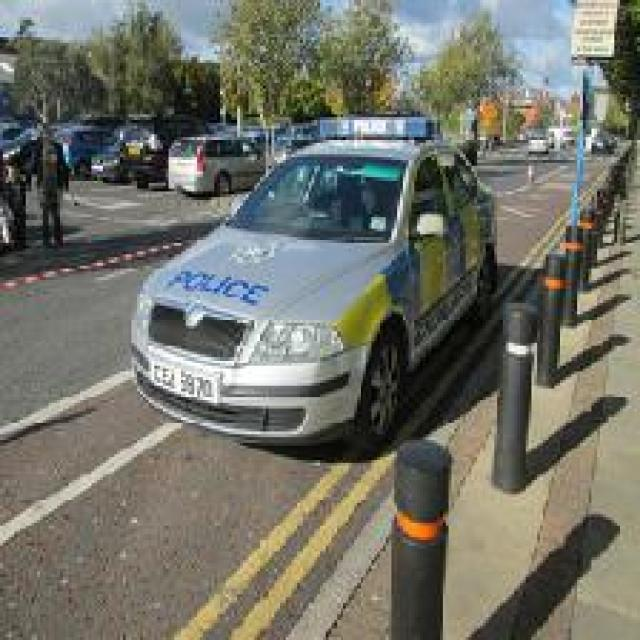emergency: (130, 112, 506, 466)
